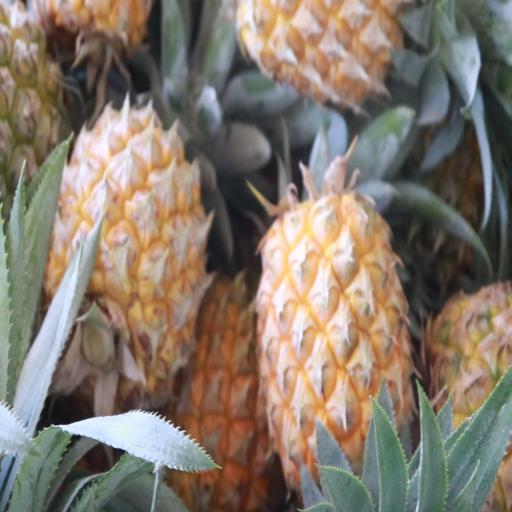Pineapple - v8 v1: (263, 203, 415, 512), (54, 104, 204, 394), (167, 284, 279, 512)
